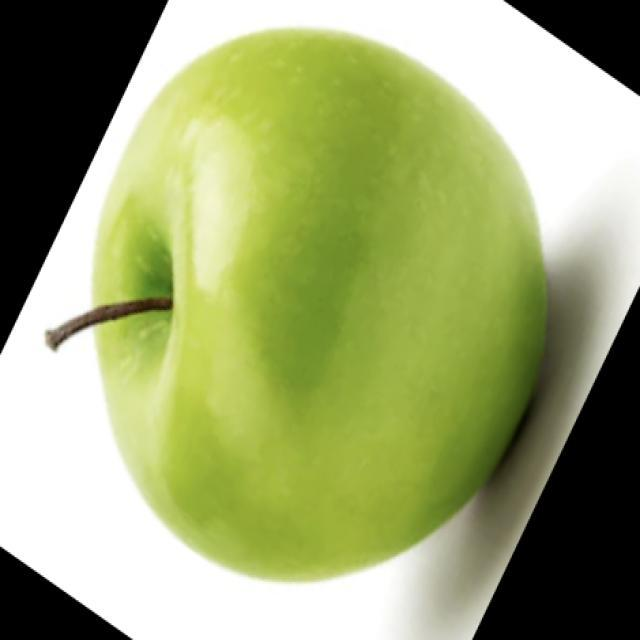Fresh Apple: (105, 13, 550, 560)
